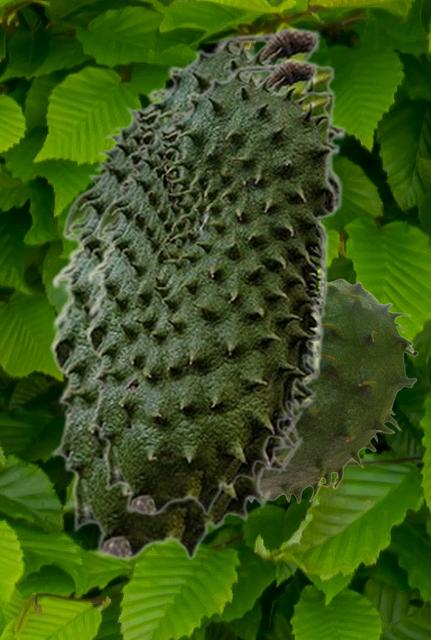guyabano: (48, 26, 345, 561), (84, 58, 339, 516), (251, 278, 417, 504)
